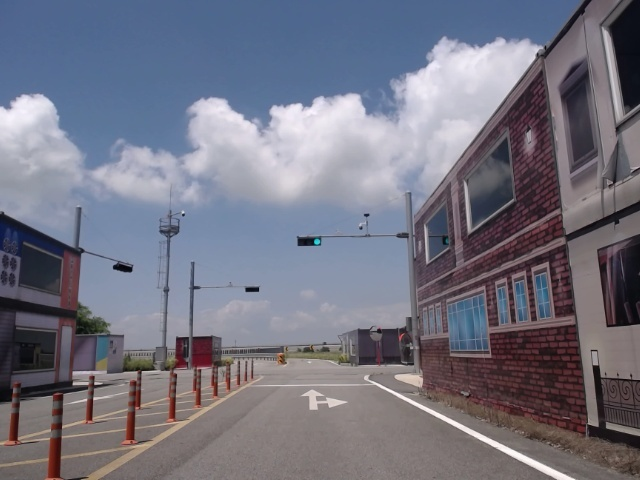green_3: (297, 236, 321, 245)
